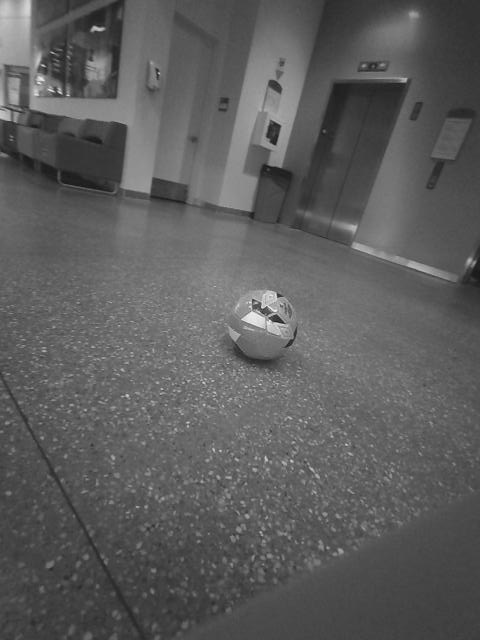ball: (225, 286, 303, 363)
